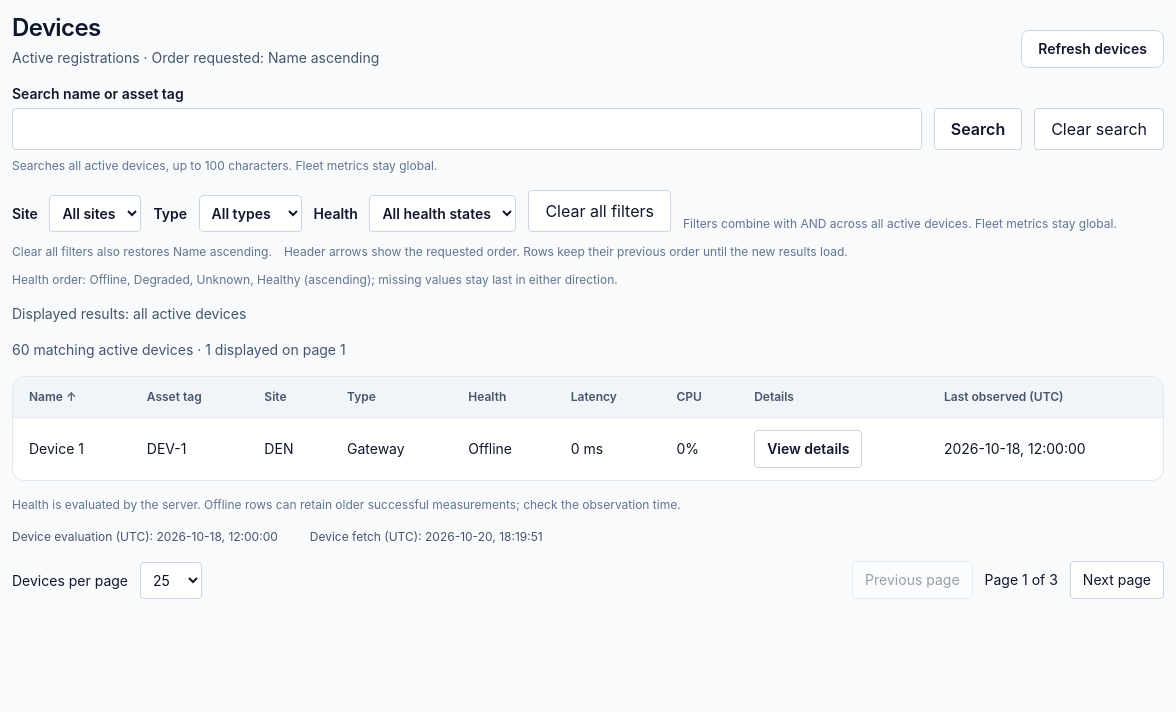
Test: keeps the previous cache entry through a failed page change and succeeds on explicit retry
Expected: the text "Device 1" is shown, [13,418,131,480]
Click the button "Next page". click: point(1117, 580)
box: [1070,561,1164,599]
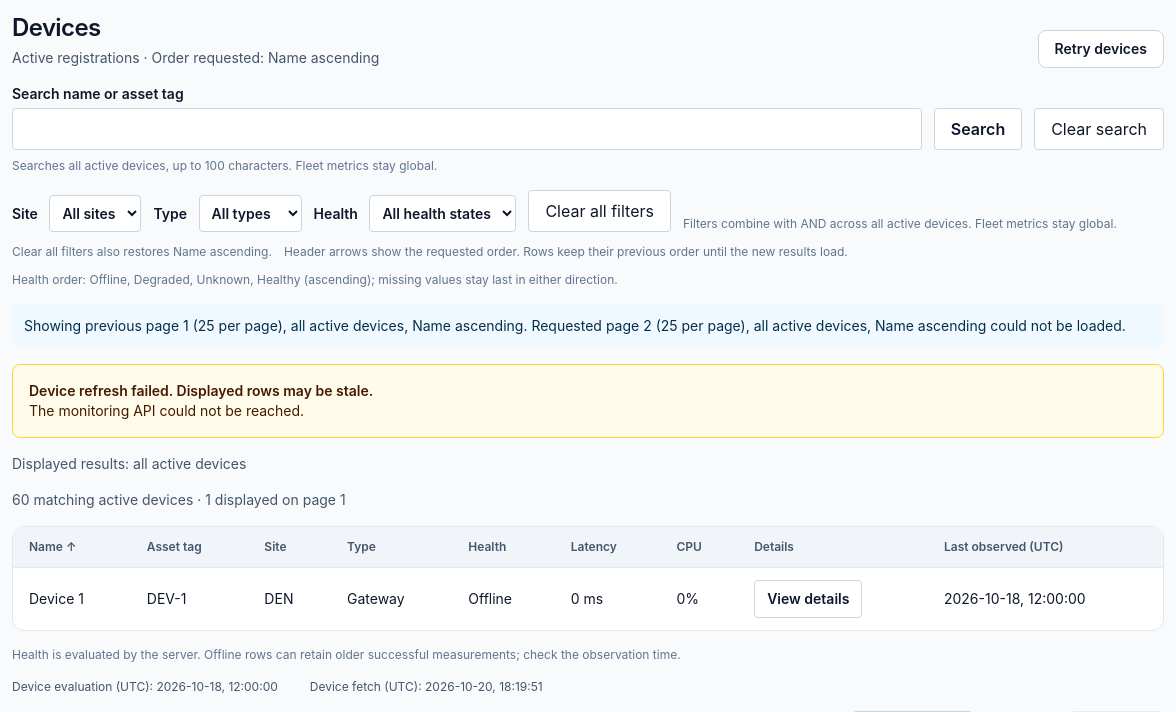
Expected: the text "Device 1" is shown, [13,568,131,630]
Expected: the text "Showing previous page 1" is shown, [12,304,1164,348]
Expected: the 2nd message is shown, [12,364,1164,438]
Click the button "Retry devices". click: point(1101, 49)
box: [1038,30,1164,68]
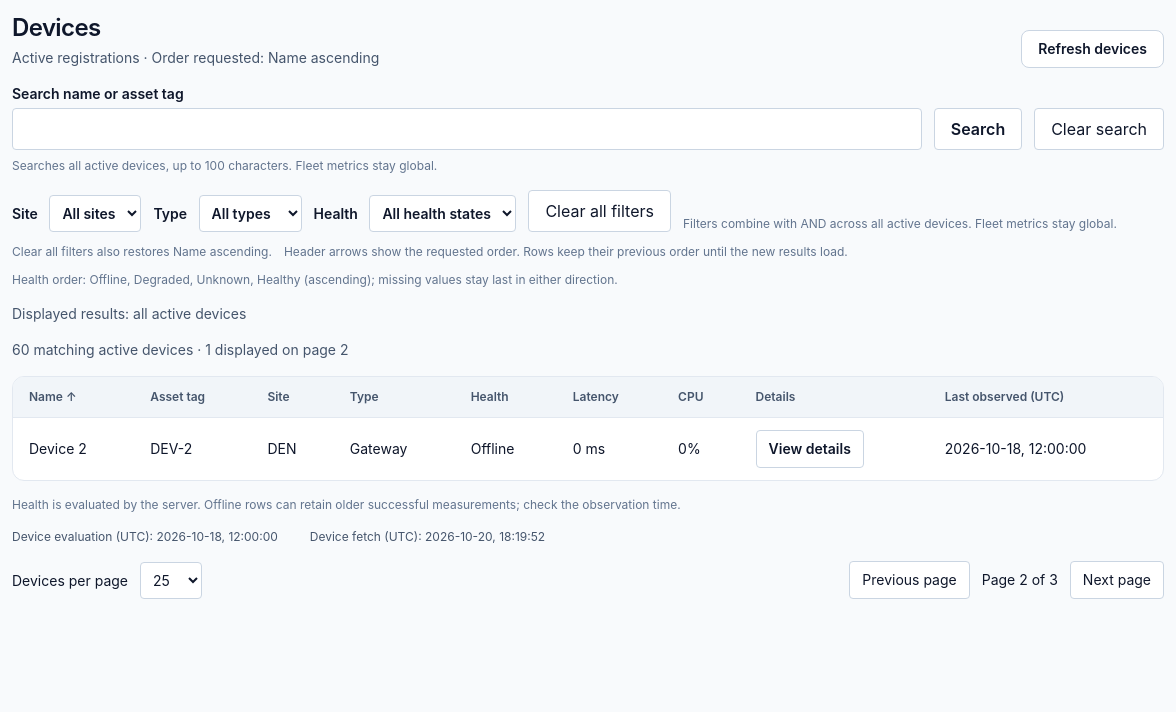
Expected: the text "Device 2" is shown, [13,418,134,480]
Expected: the text "Device 1" is gone
Expected: the message is gone
